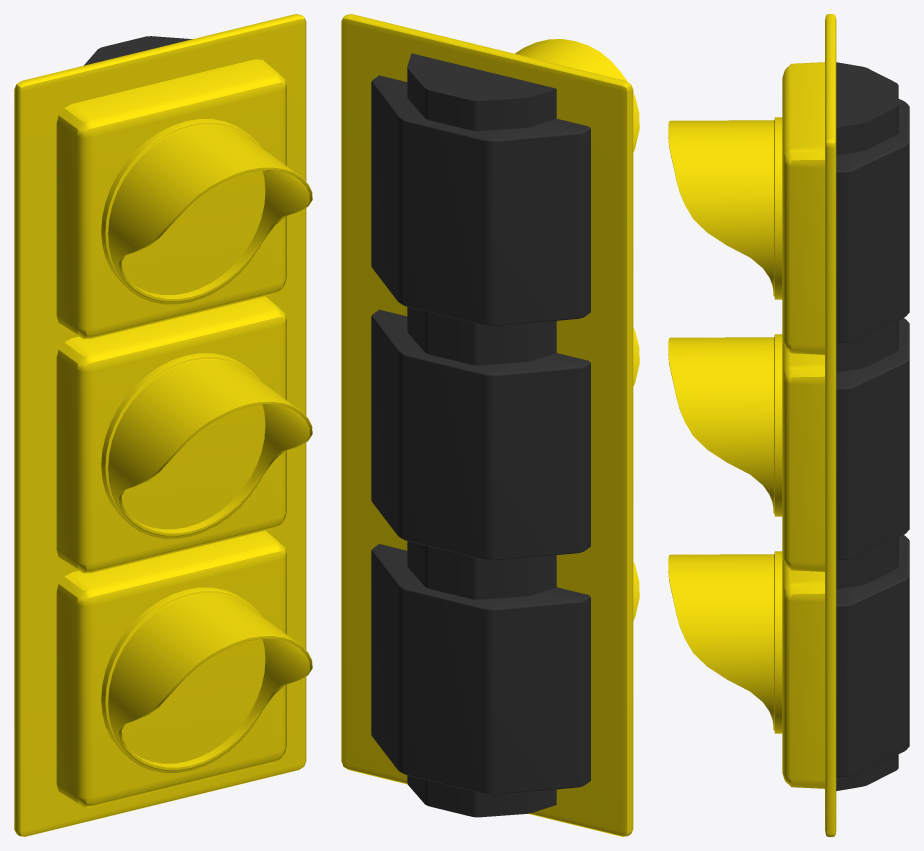
File: trafficLight_01.fbx
3 renders of one model, left to right at view 1: azimuth 30°, elevation 25°; view 2: azimuth 150°, elevation 25°; view 3: azimuth 270°, elevation 25°, orthographic. The views are drawn at different scales.
Parts seen in each view (by area): view 1: trafficLight_01_LOD_0; view 2: trafficLight_01_LOD_0; view 3: trafficLight_01_LOD_0.
Part boxes in pixels (bbox=[...]): trafficLight_01_LOD_0: bbox=[14, 14, 312, 836]; trafficLight_01_LOD_0: bbox=[341, 14, 639, 836]; trafficLight_01_LOD_0: bbox=[668, 14, 909, 836].
Bounding box in the file's own units: 38.37 × 95.66 × 29.95.
